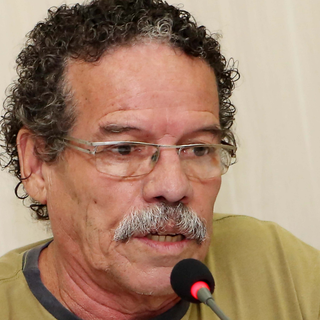eye: (182, 136, 217, 166), (104, 138, 145, 162)
